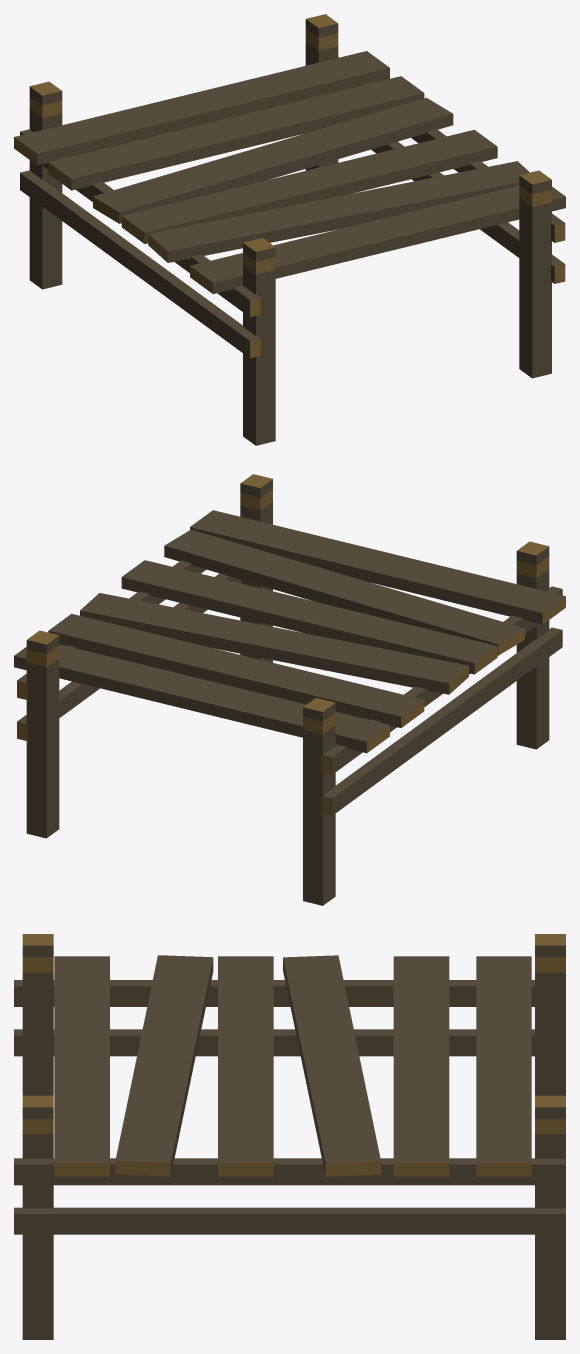
The model's file is doc.FBX.
3 renders of one model, top to bottom at view 1: azimuth 30°, elevation 25°; view 2: azimuth 150°, elevation 25°; view 3: azimuth 270°, elevation 25°, orthographic. The views are drawn at different scales.
Visible parts, largest first — view 1: doc; view 2: doc; view 3: doc.
Part boxes in pixels (x1,y1,x2,y2): doc: (14, 14, 565, 445); doc: (14, 474, 565, 905); doc: (14, 934, 565, 1339).
Bounding box in the file's own units: 9.59 × 5 × 10.76.
